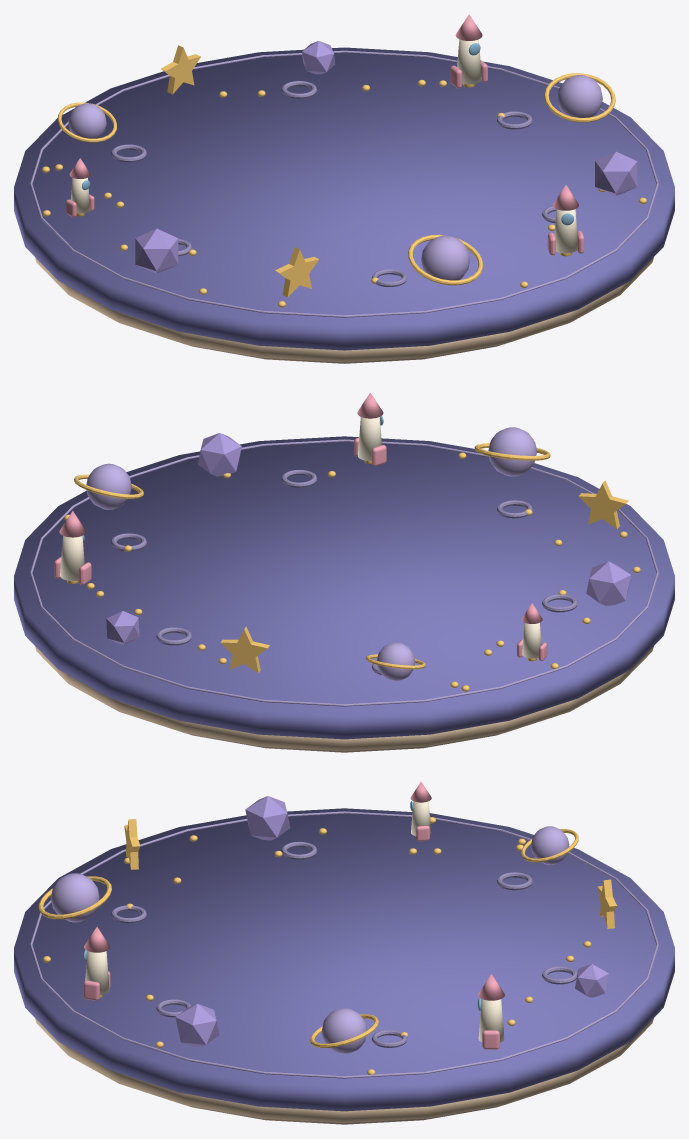
Rendered from world.glb.
3 renders of one model, top to bottom at view 1: azimuth 30°, elevation 25°; view 2: azimuth 150°, elevation 25°; view 3: azimuth 270°, elevation 25°, orthographic.
Parts seen in each view (by area): view 1: Cone, Cone.001, Torus.079, planet.003, planet.001, rocket.001, rocket.003, planet.002, gem.002, gem.003, rocket.002, star.002 (+3 smaller); view 2: Cone, Cone.001, Torus.079, planet.003, planet.001, rocket.001, rocket.003, gem.002, gem.003, planet.002, star.002, rocket.002 (+3 smaller); view 3: Cone, Cone.001, Torus.079, planet.003, planet.001, rocket.001, rocket.003, gem.002, planet.002, gem.003, rocket.002, gem.001 (+3 smaller).
Boxes of the visible parts, left/top/right/bottom form: Cone: left=14, top=47, right=674, bottom=350; Cone.001: left=35, top=257, right=653, bottom=362; Torus.079: left=30, top=50, right=658, bottom=317; planet.003: left=408, top=234, right=482, bottom=285; planet.001: left=544, top=73, right=615, bottom=122; rocket.001: left=450, top=14, right=487, bottom=88; rocket.003: left=547, top=185, right=584, bottom=256; planet.002: left=58, top=102, right=116, bottom=142; gem.002: left=135, top=228, right=178, bottom=273; gem.003: left=595, top=151, right=637, bottom=195; rocket.002: left=66, top=158, right=94, bottom=217; star.002: left=275, top=247, right=319, bottom=297; Cone: left=14, top=436, right=674, bottom=739; Cone.001: left=35, top=646, right=653, bottom=751; Torus.079: left=30, top=439, right=658, bottom=706; planet.003: left=474, top=427, right=550, bottom=476; planet.001: left=74, top=463, right=143, bottom=509; rocket.001: left=54, top=511, right=91, bottom=585; rocket.003: left=354, top=392, right=386, bottom=466; gem.002: left=586, top=561, right=631, bottom=605; gem.003: left=198, top=433, right=241, bottom=476; planet.002: left=366, top=642, right=425, bottom=681; star.002: left=578, top=480, right=628, bottom=529; rocket.002: left=517, top=603, right=547, bottom=661; Cone: left=14, top=808, right=674, bottom=1111; Cone.001: left=35, top=1018, right=653, bottom=1123; Torus.079: left=30, top=811, right=658, bottom=1078; planet.003: left=38, top=873, right=111, bottom=922; planet.001: left=310, top=1008, right=378, bottom=1054; rocket.001: left=477, top=974, right=504, bottom=1049; rocket.003: left=83, top=927, right=110, bottom=1000; gem.002: left=245, top=796, right=290, bottom=840; planet.002: left=521, top=826, right=578, bottom=864; gem.003: left=175, top=1003, right=219, bottom=1047; rocket.002: left=410, top=781, right=431, bottom=841; gem.001: left=575, top=964, right=608, bottom=997.
Size of the model in its own units: 9.6 by 1.91 by 9.6.
